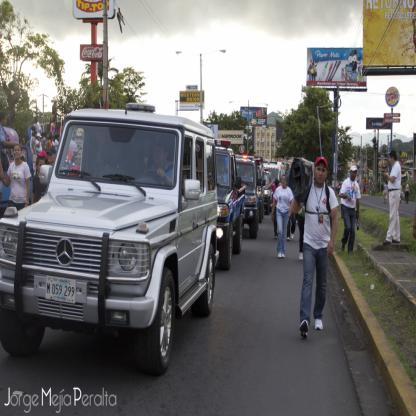Car: (0, 102, 286, 375)
